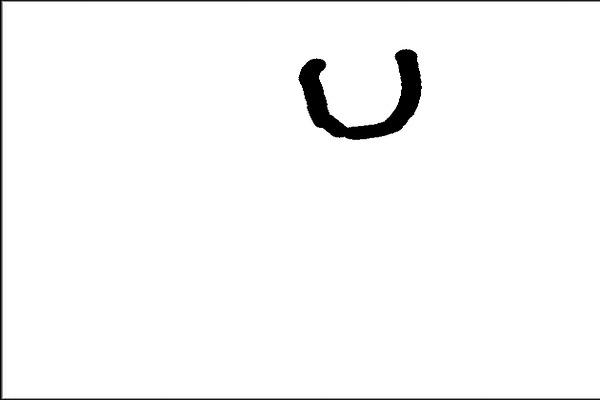U: (290, 46, 427, 145)
